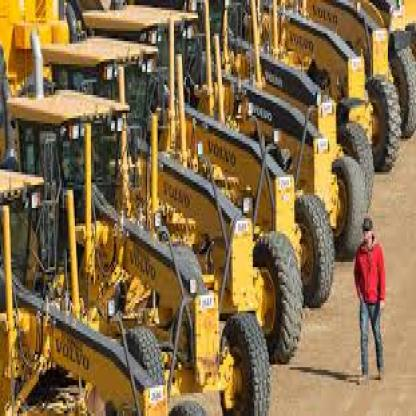person: (344, 206, 390, 390)
